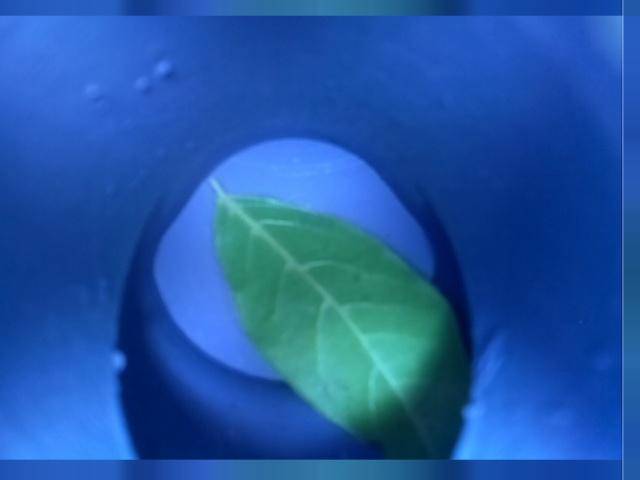feuille: (198, 173, 475, 459)
